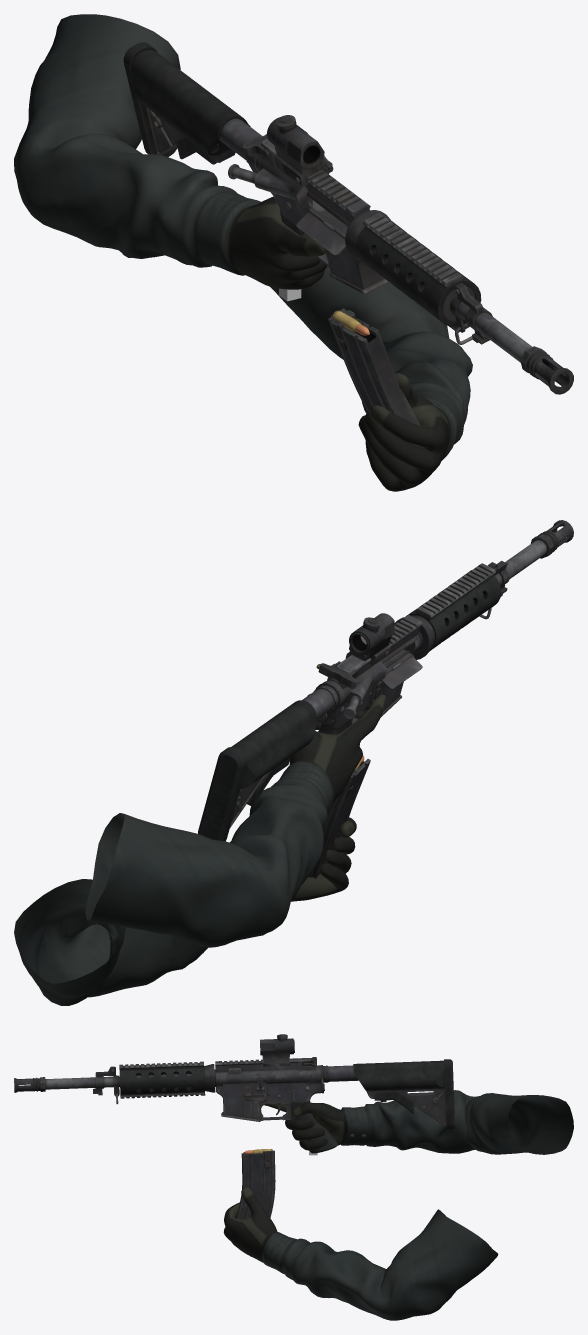
Rendered from gun_000031.obj.
The picture shows the model from 3 angles, top to bottom: view 1: azimuth 30°, elevation 25°; view 2: azimuth 150°, elevation 25°; view 3: azimuth 270°, elevation 25°; orthographic projection. The views are drawn at different scales.
Visible parts, largest first — view 1: armmesh_arms_0, base_carbine_0, clip_carbine_0, scope_carbine_0, lid_carbine_0; view 2: armmesh_arms_0, base_carbine_0, scope_carbine_0, clip_carbine_0, lid_carbine_0; view 3: armmesh_arms_0, base_carbine_0, clip_carbine_0, scope_carbine_0.
Boxes of the visible parts, bbox=[...] form: armmesh_arms_0: bbox=[14, 14, 472, 491]; base_carbine_0: bbox=[123, 42, 573, 394]; clip_carbine_0: bbox=[328, 308, 420, 445]; scope_carbine_0: bbox=[267, 115, 333, 186]; lid_carbine_0: bbox=[296, 212, 345, 255]; armmesh_arms_0: bbox=[14, 694, 385, 1005]; base_carbine_0: bbox=[198, 520, 573, 841]; scope_carbine_0: bbox=[345, 613, 394, 665]; clip_carbine_0: bbox=[308, 758, 370, 878]; lid_carbine_0: bbox=[381, 656, 422, 689]; armmesh_arms_0: bbox=[223, 1090, 573, 1320]; base_carbine_0: bbox=[14, 1058, 454, 1153]; clip_carbine_0: bbox=[236, 1150, 275, 1219]; scope_carbine_0: bbox=[260, 1034, 294, 1066].
Bounding box in the file's own units: 50.03 × 57.21 × 129.
